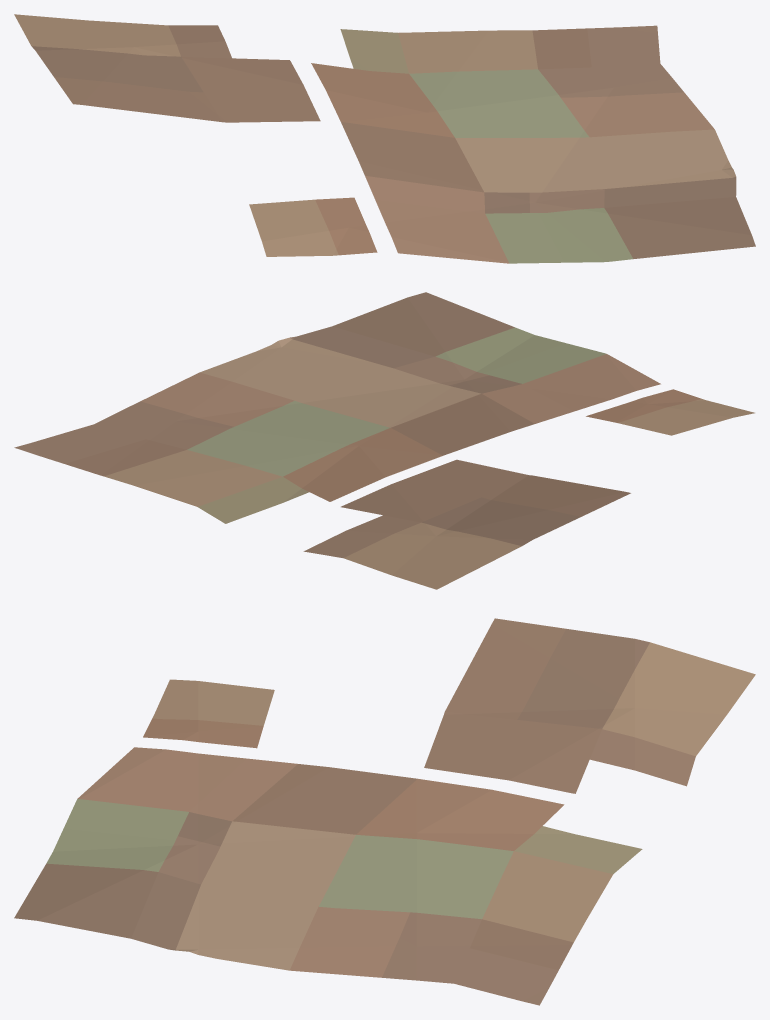
File: farm_-2_7_soil.glb
3 renders of one model, top to bottom at view 1: azimuth 30°, elevation 25°; view 2: azimuth 150°, elevation 25°; view 3: azimuth 270°, elevation 25°, orthographic. The views are drawn at different scales.
Parts seen in each view (by area): view 1: geometry_0; view 2: geometry_0; view 3: geometry_0.
Part boxes in pixels (x1,y1,x2,y2): geometry_0: [14, 14, 755, 263]; geometry_0: [14, 292, 754, 589]; geometry_0: [14, 618, 755, 1005].
Size of the model in its own units: 260 by 35.12 by 272.
